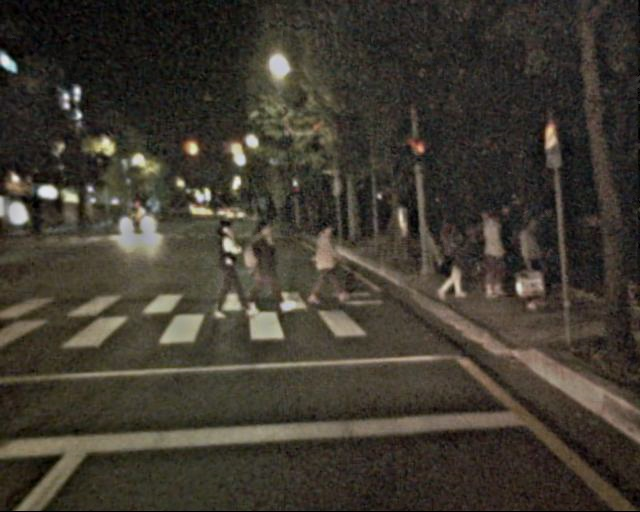person: (206, 217, 247, 317), (512, 211, 553, 311), (479, 203, 521, 295), (242, 220, 281, 316), (527, 202, 564, 293), (433, 215, 470, 305), (306, 218, 342, 307)
